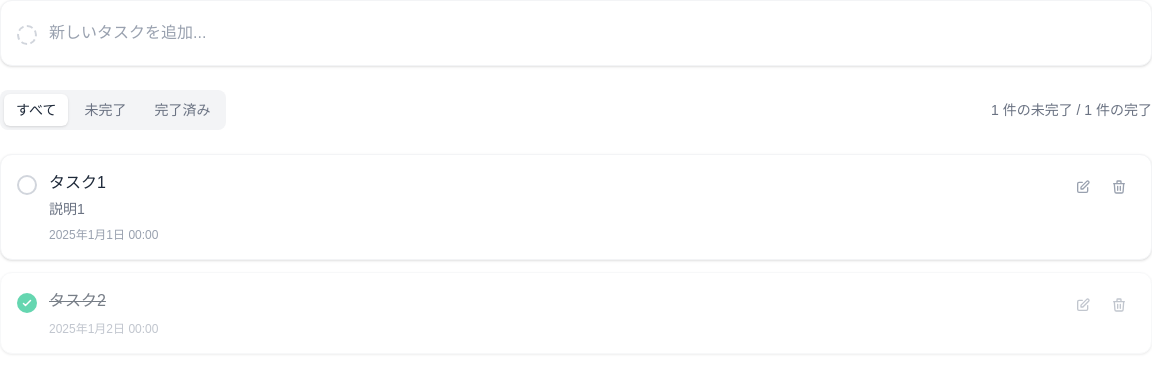
it: TodoList › フィルターで未完了のみ表示できる
Expected: the heading "タスク1" is shown, x1=49 y1=174 x2=106 y2=191
What coordinates should you click on to do the following:
click the button "未完了"
I would click on:
 (106, 110)
Its box is x1=72 y1=94 x2=138 y2=126.
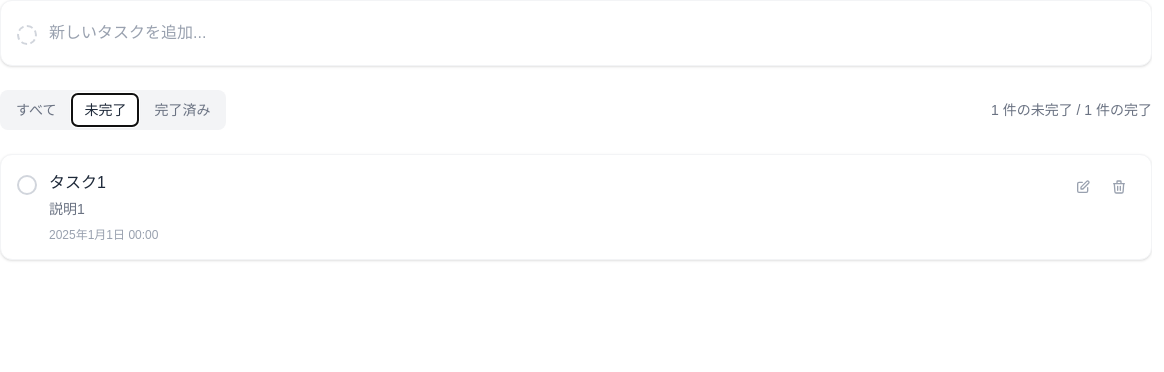
Expected: the heading "タスク1" is shown, x1=49 y1=174 x2=106 y2=191
Now the heading "タスク2" is gone
